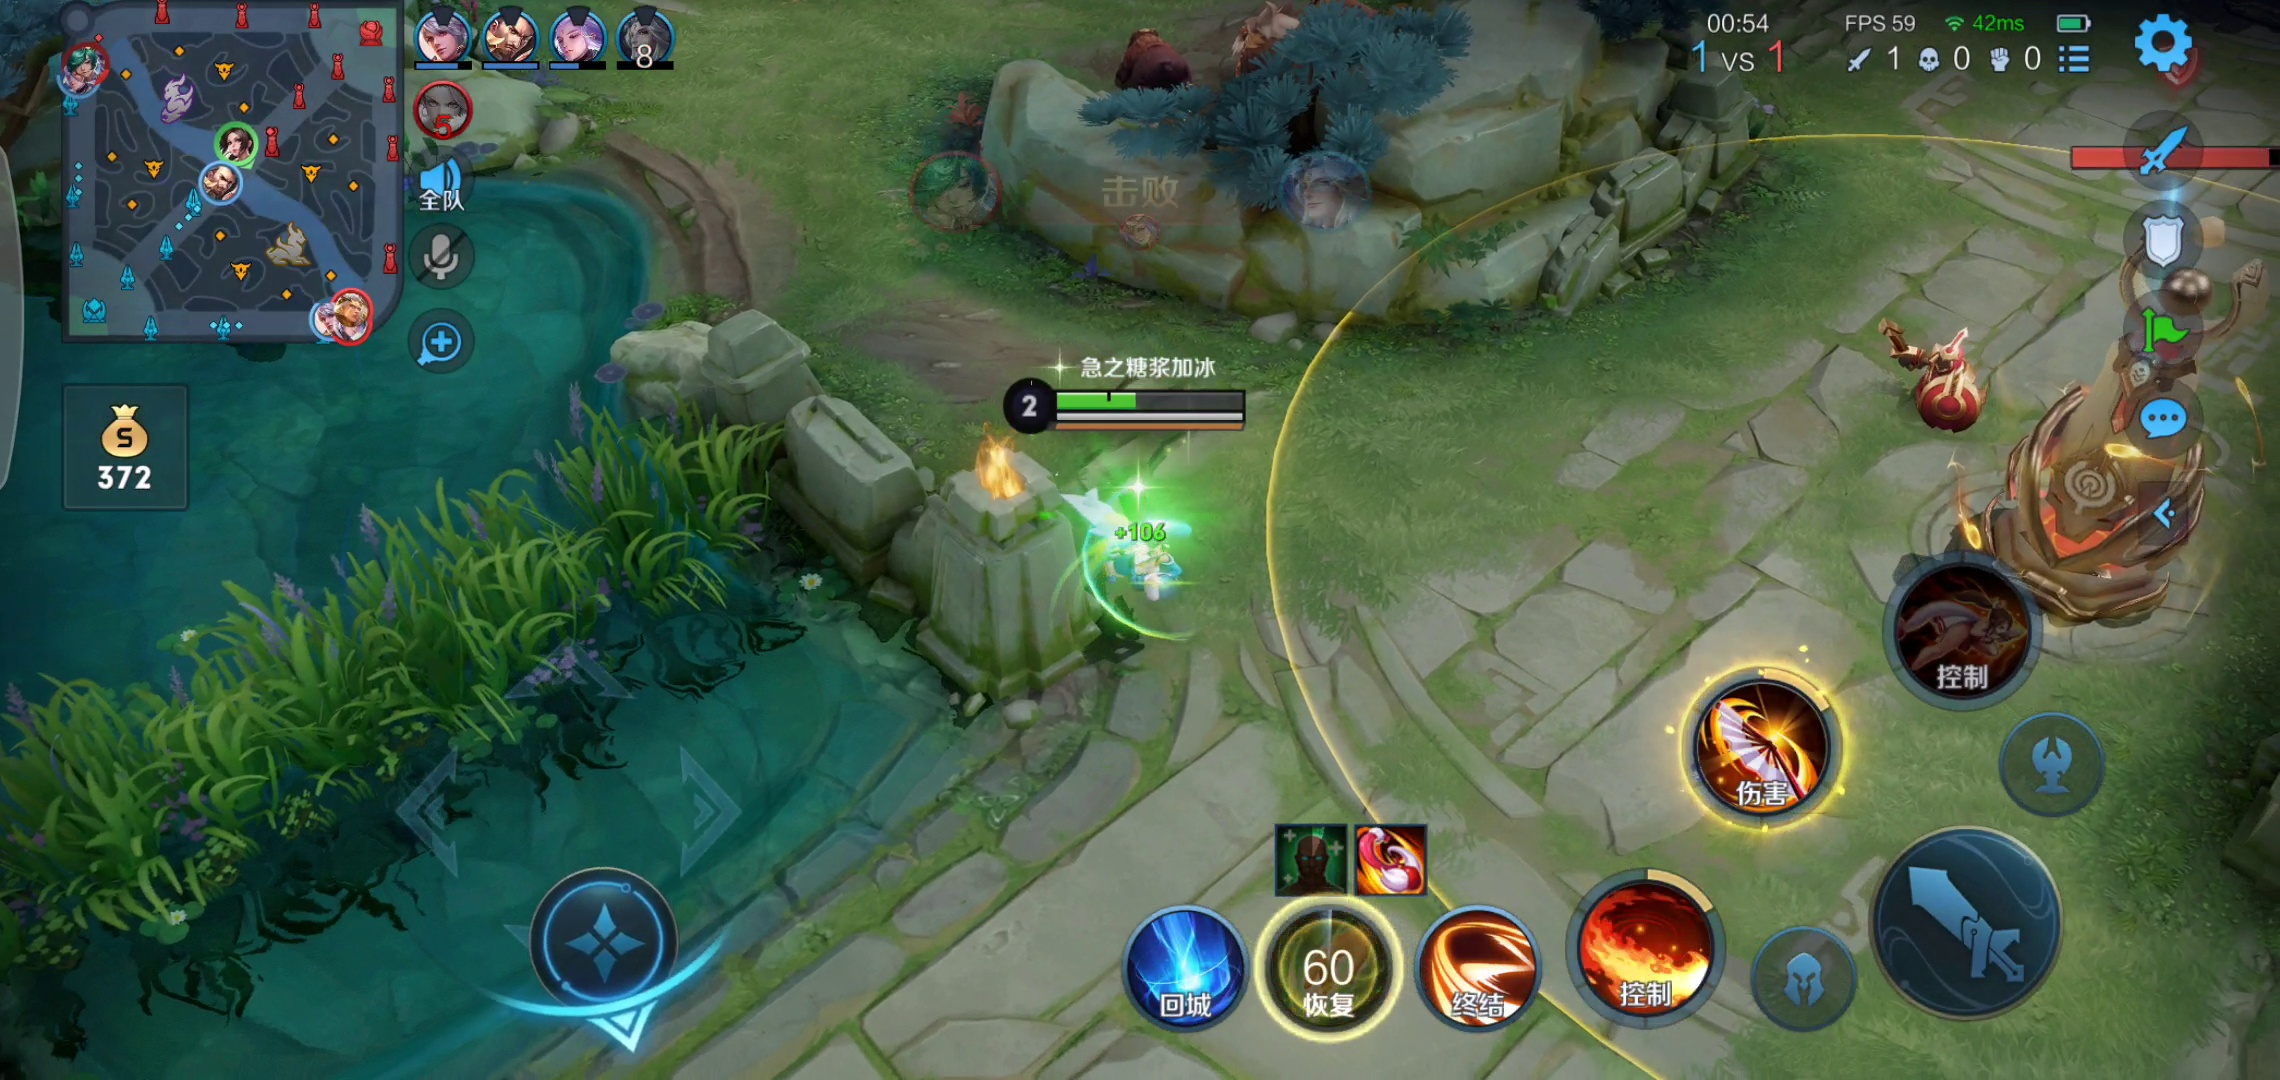grass: (1, 416, 782, 975)
hero: (1027, 451, 1208, 648)
soldier: (1864, 304, 1995, 436)
tower: (2002, 172, 2248, 661)
wild_monster: (1070, 1, 1357, 103)
